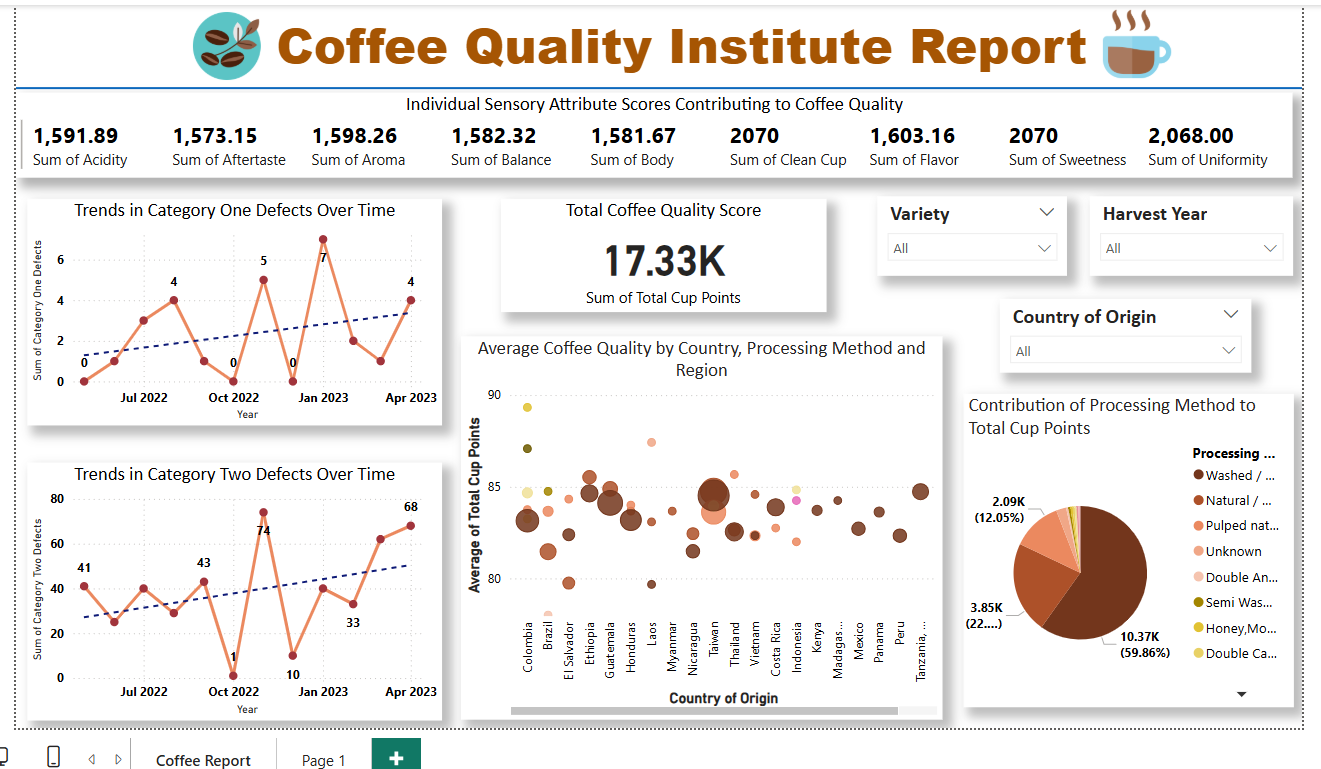

The page's visual inventory and layout, read from the dashboard file:
{"tool":"powerbi","page":{"name":"Coffee Report","canvas":[1280,720],"ordinal":0},"visuals":[{"type":"shape","box":[0,78.1,1280.3,8.7],"z":0},{"type":"textbox","box":[218.2,0,889.6,77.9],"z":1000},{"type":"slicer","fields":{"Values":["df_arabica_clean (2).Country of Origin"]},"box":[979.5,292.8,250.6,73.5],"z":2000},{"type":"lineChart","title":"Trends in Category One Defects Over Time","fields":{"Category":["df_arabica_clean (2).Grading Date.Variation.Date Hierarchy.Year","df_arabica_clean (2).Grading Date.Variation.Date Hierarchy.Quarter","df_arabica_clean (2).Grading Date.Variation.Date Hierarchy.Month","df_arabica_clean (2).Grading Date.Variation.Date Hierarchy.Day"],"Y":["Sum(df_arabica_clean (2).Category One Defects)"]},"box":[11.7,192.2,413,226],"z":3000},{"type":"lineChart","title":"Trends in Category Two Defects Over Time","fields":{"Category":["df_arabica_clean (2).Grading Date.Variation.Date Hierarchy.Year","df_arabica_clean (2).Grading Date.Variation.Date Hierarchy.Quarter","df_arabica_clean (2).Grading Date.Variation.Date Hierarchy.Month","df_arabica_clean (2).Grading Date.Variation.Date Hierarchy.Day"],"Y":["Sum(df_arabica_clean (2).Category Two Defects)"]},"box":[11.5,455.1,412.8,256.4],"z":4000},{"type":"pieChart","title":"Contribution of Processing Method to Total Cup Points","fields":{"Category":["df_arabica_clean (2).Processing Method"],"Y":["Sum(df_arabica_clean (2).Total Cup Points)"]},"box":[943.4,386.7,328.9,312],"z":5000},{"type":"scatterChart","title":"Average Coffee Quality by Country, Processing Method and Region","fields":{"Series":["df_arabica_clean (2).Processing Method"],"X":["df_arabica_clean (2).Country of Origin"],"Y":["Avg(df_arabica_clean (2).Total Cup Points)"],"Size":["CountNonNull(df_arabica_clean (2).Region Translated)"]},"box":[443.2,329.6,479,381.5],"z":6000},{"type":"card","title":"Total Coffee Quality Score","fields":{"Values":["Sum(df_arabica_clean (2).Total Cup Points)"]},"box":[482.5,192.5,323.8,112.5],"z":7000},{"type":"multiRowCard","title":"Individual Sensory Attribute Scores Contributing to Coffee Quality","fields":{"Values":["Sum(df_arabica_clean (2).Acidity)","Sum(df_arabica_clean (2).Aftertaste)","Sum(df_arabica_clean (2).Aroma)","Sum(df_arabica_clean (2).Balance)","Sum(df_arabica_clean (2).Body)","Sum(df_arabica_clean (2).Clean Cup)","Sum(df_arabica_clean (2).Flavor)","Sum(df_arabica_clean (2).Sweetness)","Sum(df_arabica_clean (2).Uniformity)"]},"box":[0,87,1270.7,84.6],"z":8000},{"type":"slicer","fields":{"Values":["df_arabica_clean (2).Variety"]},"box":[856.6,190.4,189.2,79.5],"z":9000},{"type":"slicer","fields":{"Values":["df_arabica_clean (2).Harvest Year"]},"box":[1068.7,190.4,202.4,79.5],"z":10000},{"type":"image","box":[1076.6,0,79.2,77.9],"z":11000},{"type":"image","box":[163.6,0,90.9,81.8],"z":12000}]}

Visuals, with their boxes on the page's 1280x720 design canvas (x1, y1, x2, y2). These are canvas units, not pixel positions in the 1321x769 screenshot, which may show the page scaled, cropped or inside an application window:
shape: select_region(0, 78, 1280, 87)
textbox: select_region(218, 0, 1108, 78)
slicer - df_arabica_clean (2).Country of Origin: select_region(980, 293, 1230, 366)
"Trends in Category One Defects Over Time" lineChart: select_region(12, 192, 425, 418)
"Trends in Category Two Defects Over Time" lineChart: select_region(12, 455, 424, 712)
"Contribution of Processing Method to Total Cup Points" pieChart: select_region(943, 387, 1272, 699)
"Average Coffee Quality by Country, Processing Method and Region" scatterChart: select_region(443, 330, 922, 711)
"Total Coffee Quality Score" card: select_region(482, 192, 806, 305)
"Individual Sensory Attribute Scores Contributing to Coffee Quality" multiRowCard: select_region(0, 87, 1271, 172)
slicer - df_arabica_clean (2).Variety: select_region(857, 190, 1046, 270)
slicer - df_arabica_clean (2).Harvest Year: select_region(1069, 190, 1271, 270)
image: select_region(1077, 0, 1156, 78)
image: select_region(164, 0, 254, 82)
